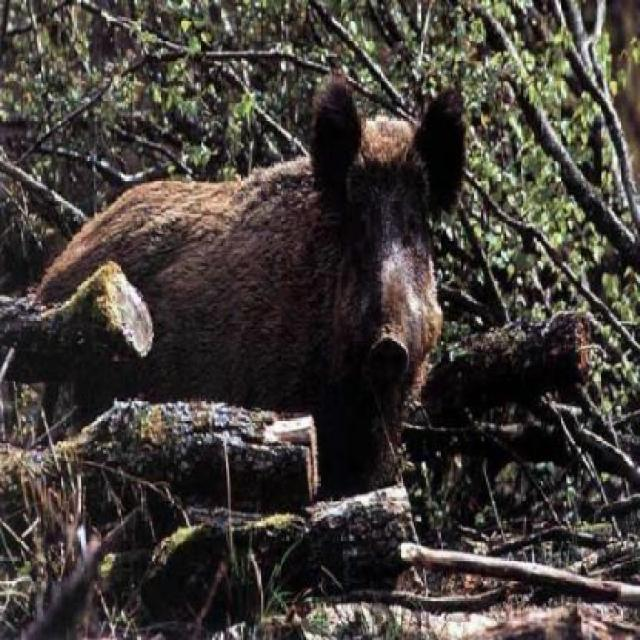Boar: (0, 48, 468, 528)
